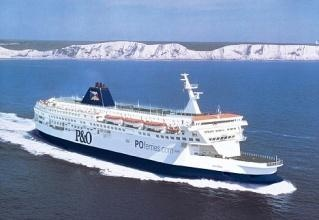youlun: (31, 72, 286, 184)
